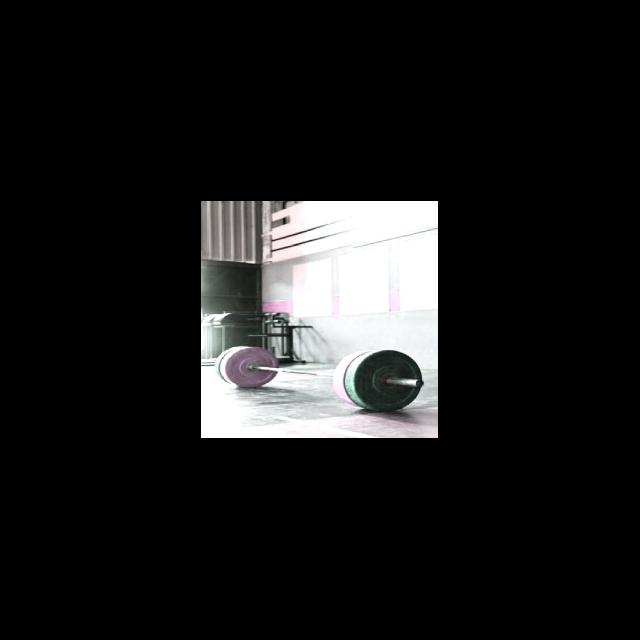barbell: (330, 343, 430, 418)
